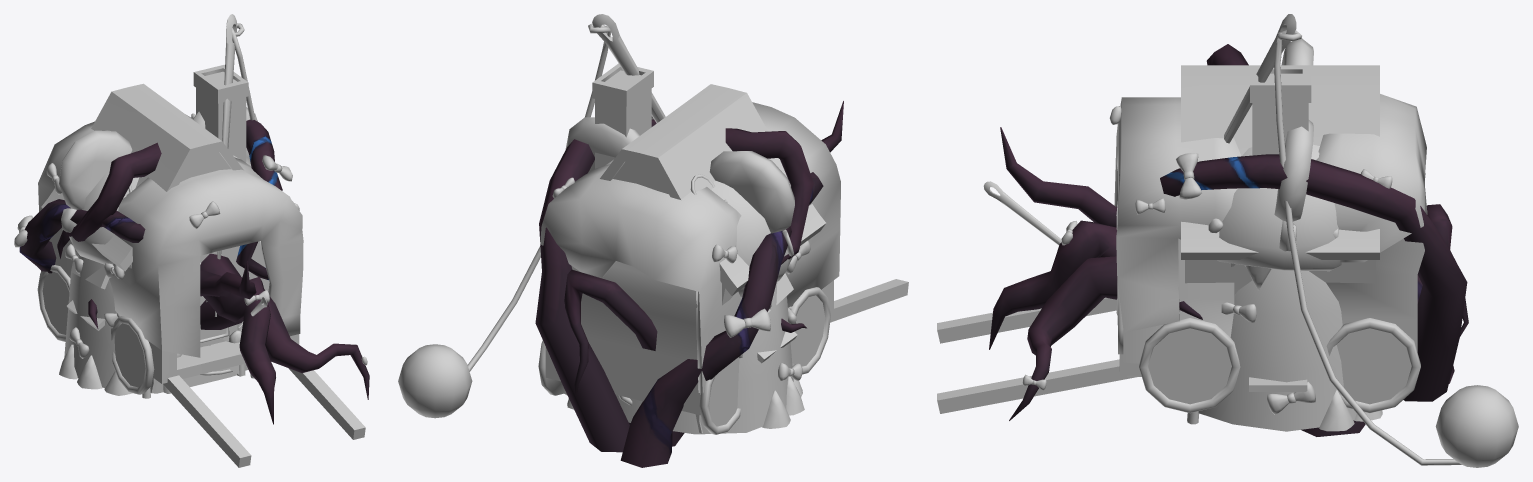
Rendered from home.fbx.
3 renders of one model, left to right at view 1: azimuth 30°, elevation 25°; view 2: azimuth 150°, elevation 25°; view 3: azimuth 270°, elevation 25°, orthographic. The views are drawn at different scales.
Visible parts, largest first — view 1: home3, home1, home2; view 2: home3, home1, home2; view 3: home3, home1, home2.
Boxes of the visible parts, box(x1,y1,x2,y2) form: home3: box(37, 14, 369, 467); home1: box(14, 65, 292, 393); home2: box(59, 107, 257, 398); home3: box(398, 14, 908, 446); home1: box(535, 63, 825, 467); home2: box(564, 117, 804, 434); home3: box(937, 14, 1518, 467); home1: box(1160, 65, 1467, 401); home2: box(1187, 38, 1382, 431).
Bounding box in the file's own units: 14.02 × 16.33 × 19.6.
